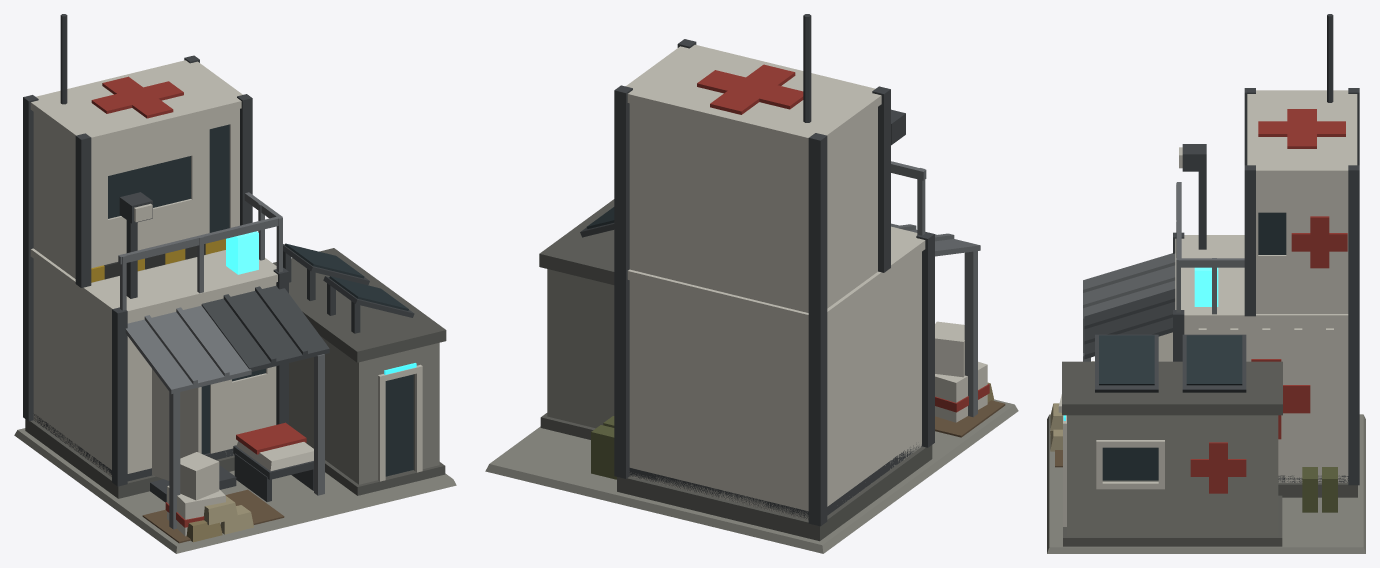
File: med_bay_l3.glb
The picture shows the model from 3 angles, left to right: view 1: azimuth 30°, elevation 25°; view 2: azimuth 150°, elevation 25°; view 3: azimuth 270°, elevation 25°; orthographic projection. The views are drawn at different scales.
Parts seen in each view (by area): view 1: med_bay_structure, med_bay_props, med_bay_roof; view 2: med_bay_structure, med_bay_props, med_bay_roof; view 3: med_bay_structure, med_bay_props, med_bay_roof.
Boxes of the visible parts, x1,y1,x2,y2 form: med_bay_structure: [14, 109, 456, 553]; med_bay_props: [23, 14, 422, 542]; med_bay_roof: [30, 60, 446, 393]; med_bay_structure: [485, 103, 1018, 553]; med_bay_props: [580, 14, 994, 526]; med_bay_roof: [539, 44, 980, 323]; med_bay_structure: [1047, 178, 1365, 553]; med_bay_props: [1050, 14, 1359, 526]; med_bay_roof: [1062, 90, 1357, 415].
Bounding box in the file's own units: 4 × 5.8 × 4.
